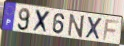6: (52, 13, 66, 35)
9: (17, 7, 32, 32)
F: (102, 19, 121, 42)
N: (67, 14, 86, 39)
X: (32, 9, 52, 35), (84, 15, 103, 41)
